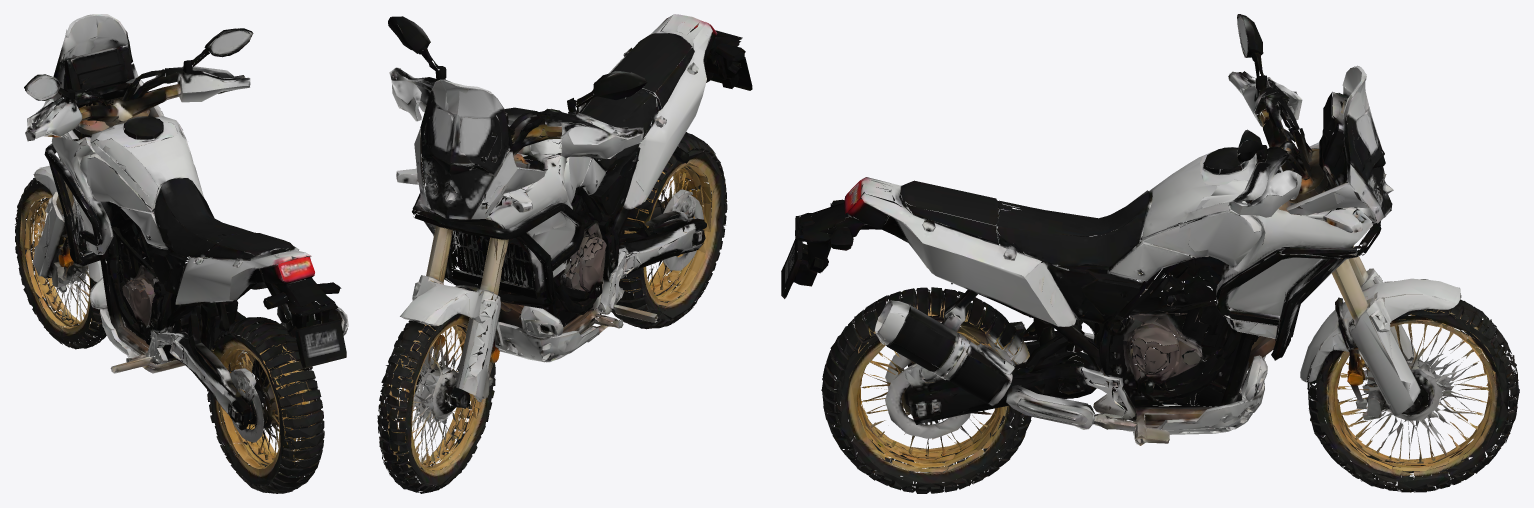
The model's file is bike_adventure.glb.
The picture shows the model from 3 angles, left to right: view 1: azimuth 30°, elevation 25°; view 2: azimuth 150°, elevation 25°; view 3: azimuth 270°, elevation 25°; orthographic projection. The views are drawn at different scales.
Visible parts, largest first — view 1: bike_body, wheel_r, wheel_f; view 2: bike_body, wheel_f, wheel_r; view 3: bike_body, wheel_f, wheel_r.
Part boxes in pixels (x1,y1,x2,y2): bike_body: [24, 14, 348, 461]; wheel_r: [197, 321, 324, 493]; wheel_f: [15, 184, 106, 349]; bike_body: [385, 14, 752, 463]; wheel_f: [377, 295, 500, 493]; wheel_r: [594, 146, 727, 329]; bike_body: [781, 14, 1509, 462]; wheel_f: [1307, 306, 1519, 492]; wheel_r: [821, 292, 1031, 493].
Bounding box in the file's own units: 1.11 × 1.58 × 2.55.
Materials: 1 (1 with a texture image).
